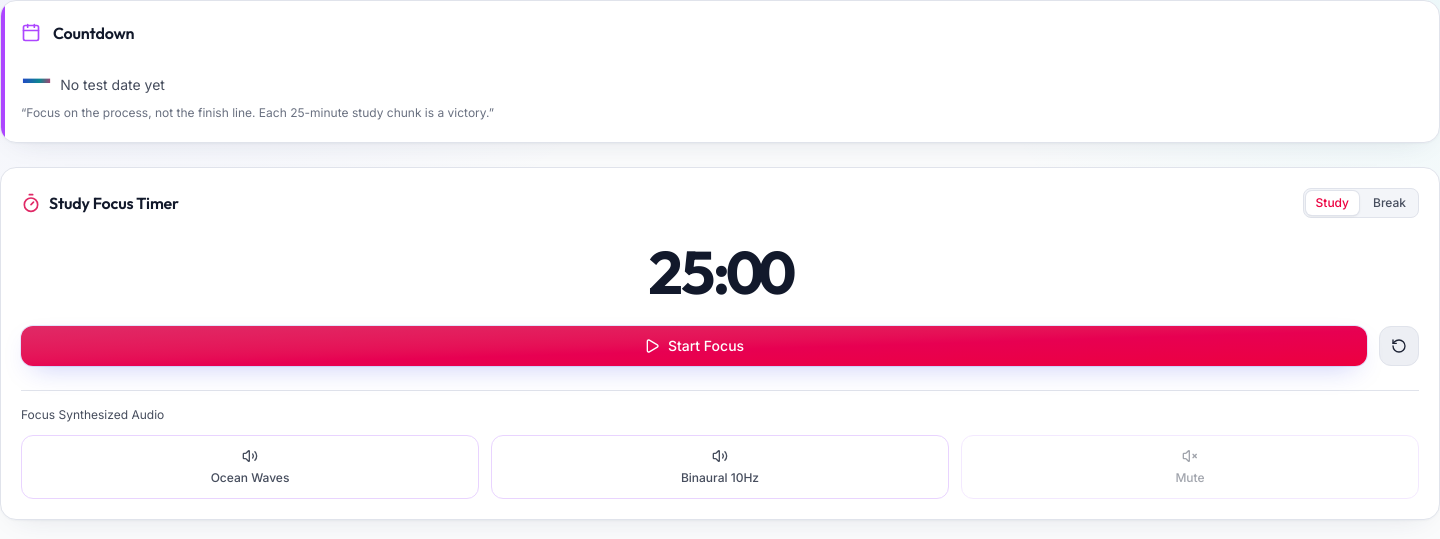
Test: FocusMode › completes a 25-minute study block, then switches to a 5-minute break
This screenshot has width=1440, height=539.
Expected: the text "25:00" is shown, [648,234,792,310]
Click the button with aria-label "Start focus timer" at (694, 346), box [21,326,1367,366]
Wait 60000 ms
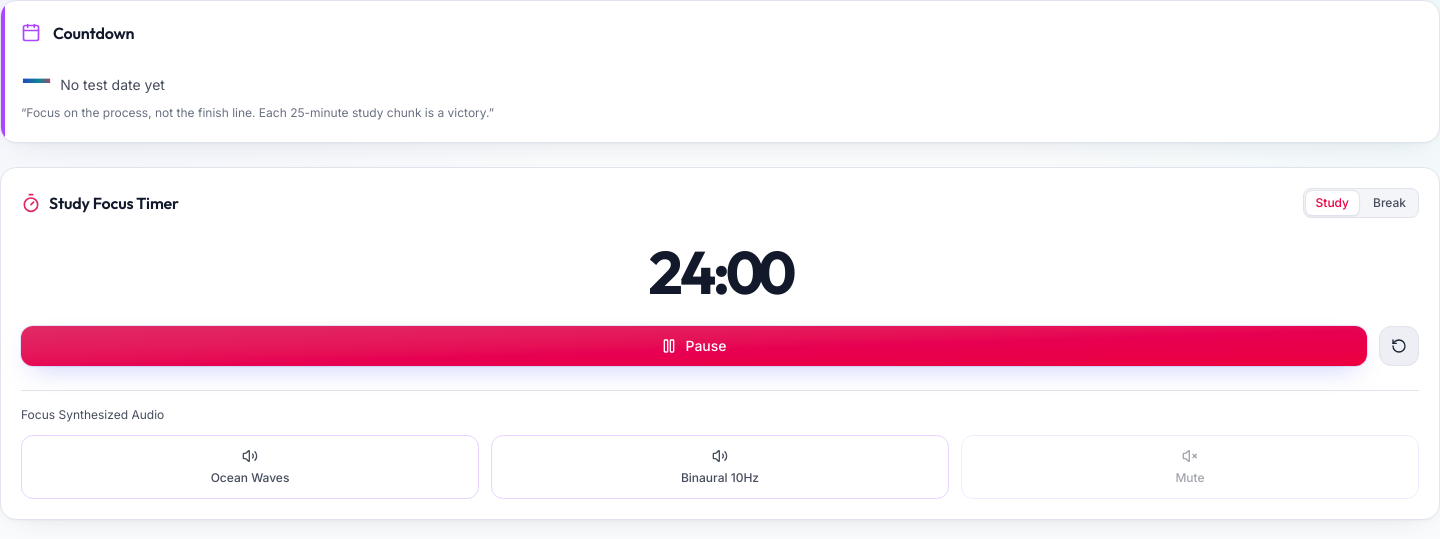
Expected: the text "24:00" is shown, [648,234,792,310]
Pause holds the remaining time
Click the button with aria-label "Pause focus timer" at (694, 346), box [21,326,1367,366]
Wait 120000 ms
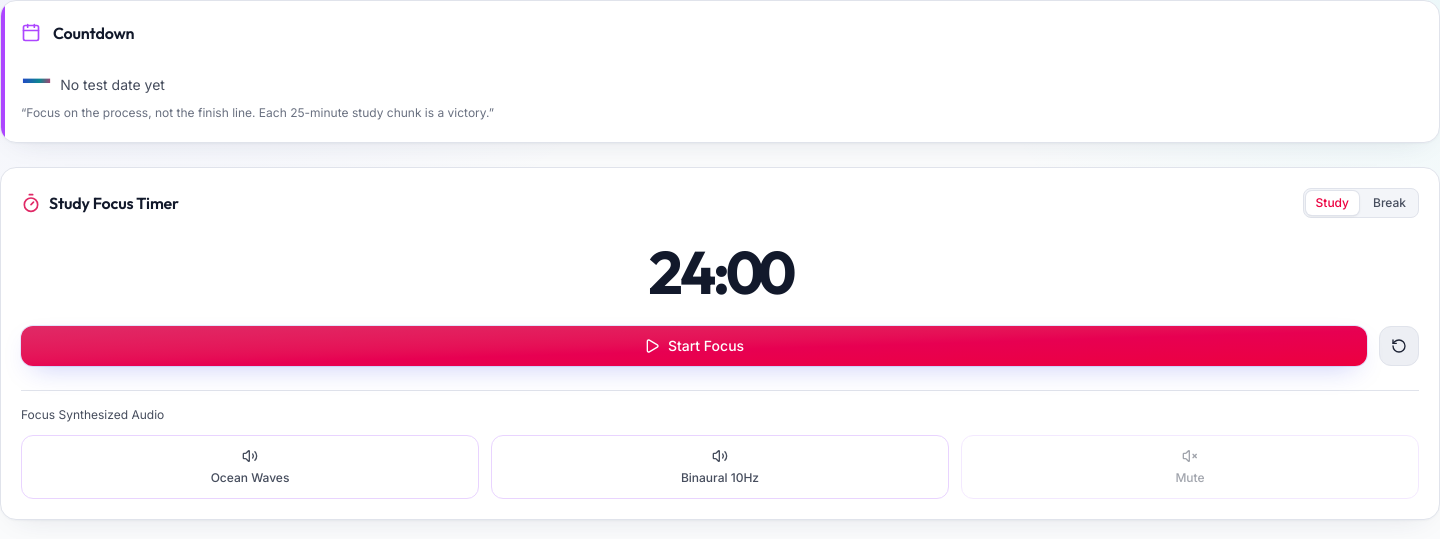
Expected: the text "24:00" is shown, [648,234,792,310]
Click the button with aria-label "Start focus timer" at (694, 346), box [21,326,1367,366]
Wait 1440500 ms
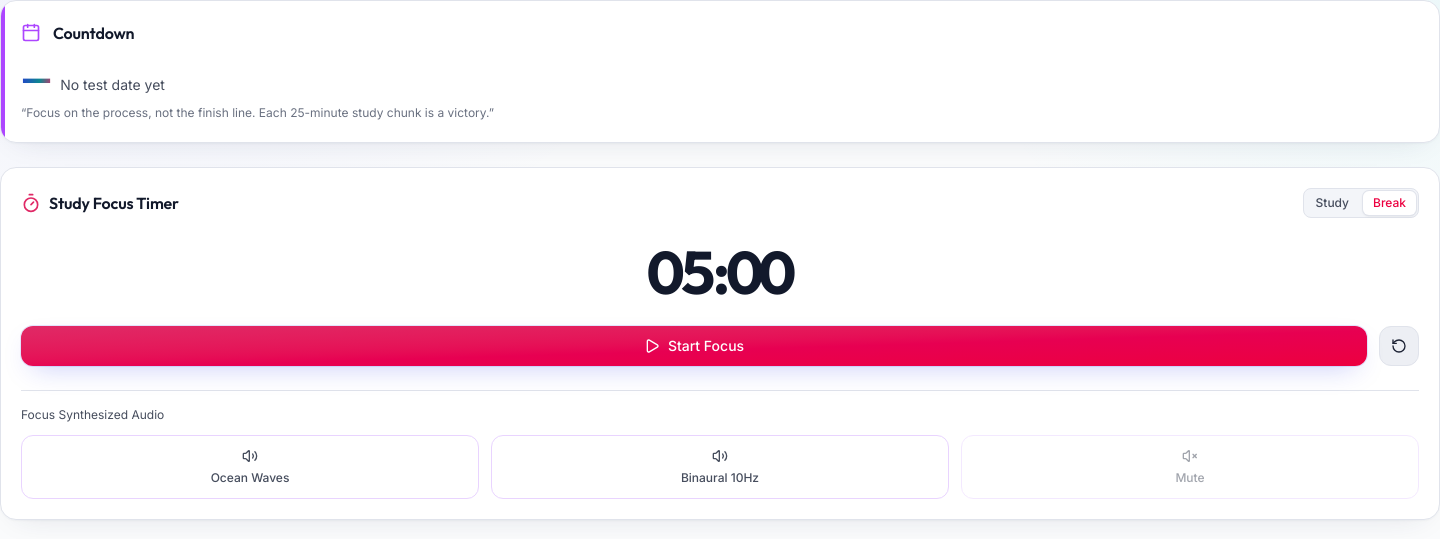
Expected: the text "05:00" is shown, [648,234,792,310]
